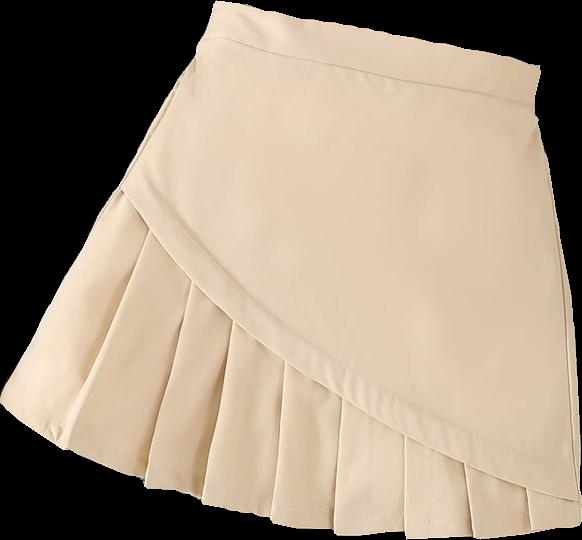Hemline: (0, 396, 581, 539)
Waistline: (118, 184, 581, 503), (200, 34, 535, 106), (214, 0, 544, 70)
